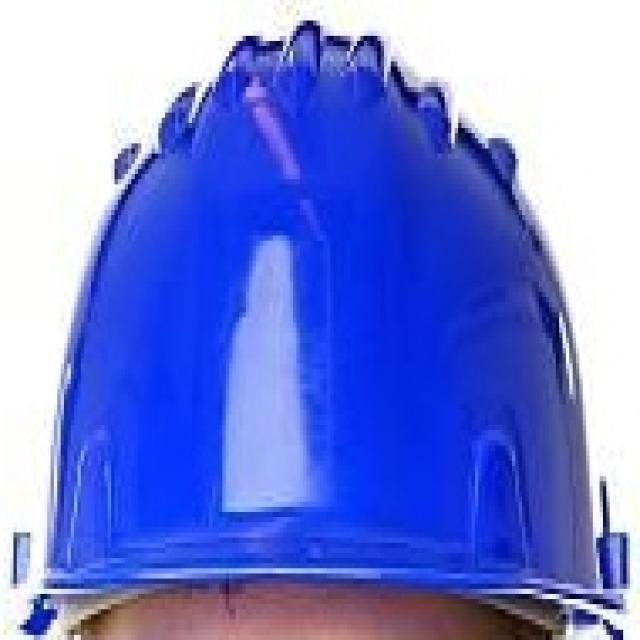helmet_blue: (3, 2, 637, 638)
